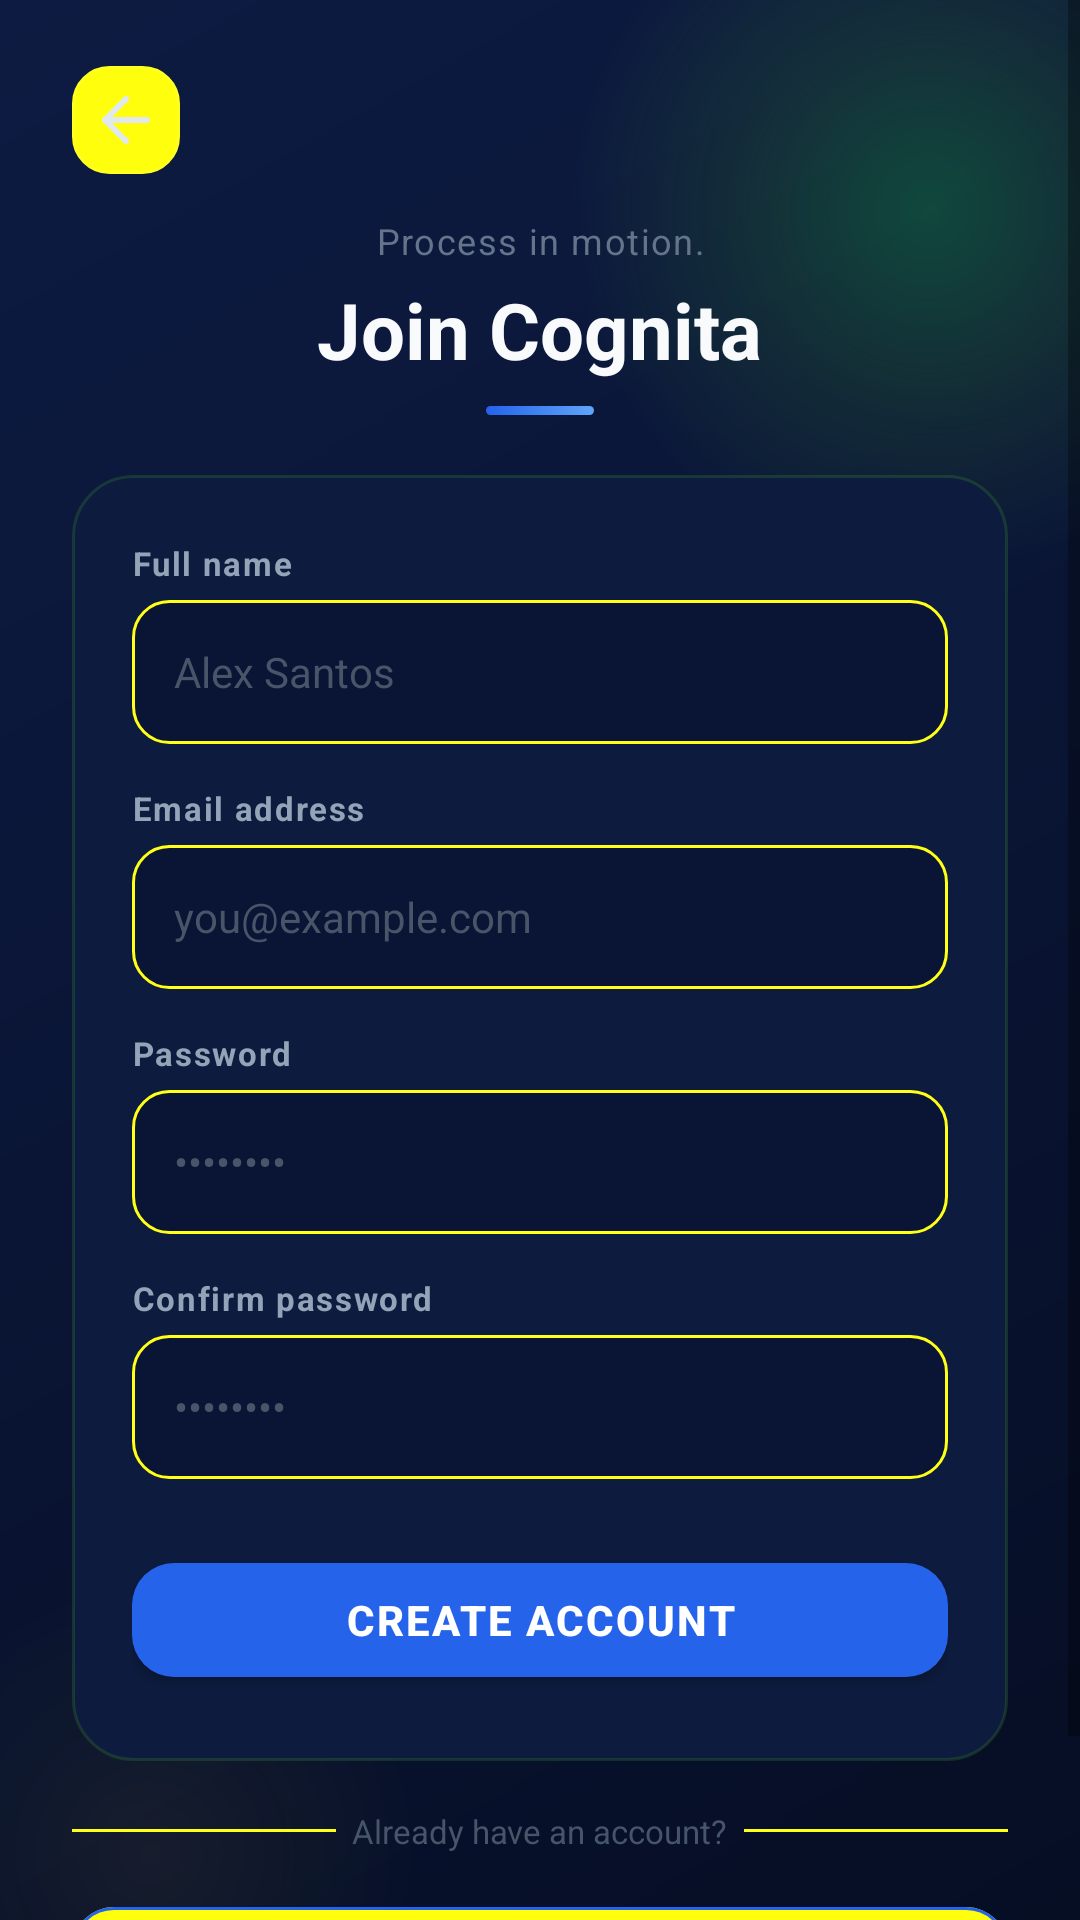

Named icons in this screenshot (1080*1920) and their centers, (x,y):
Go back: (126,120)
